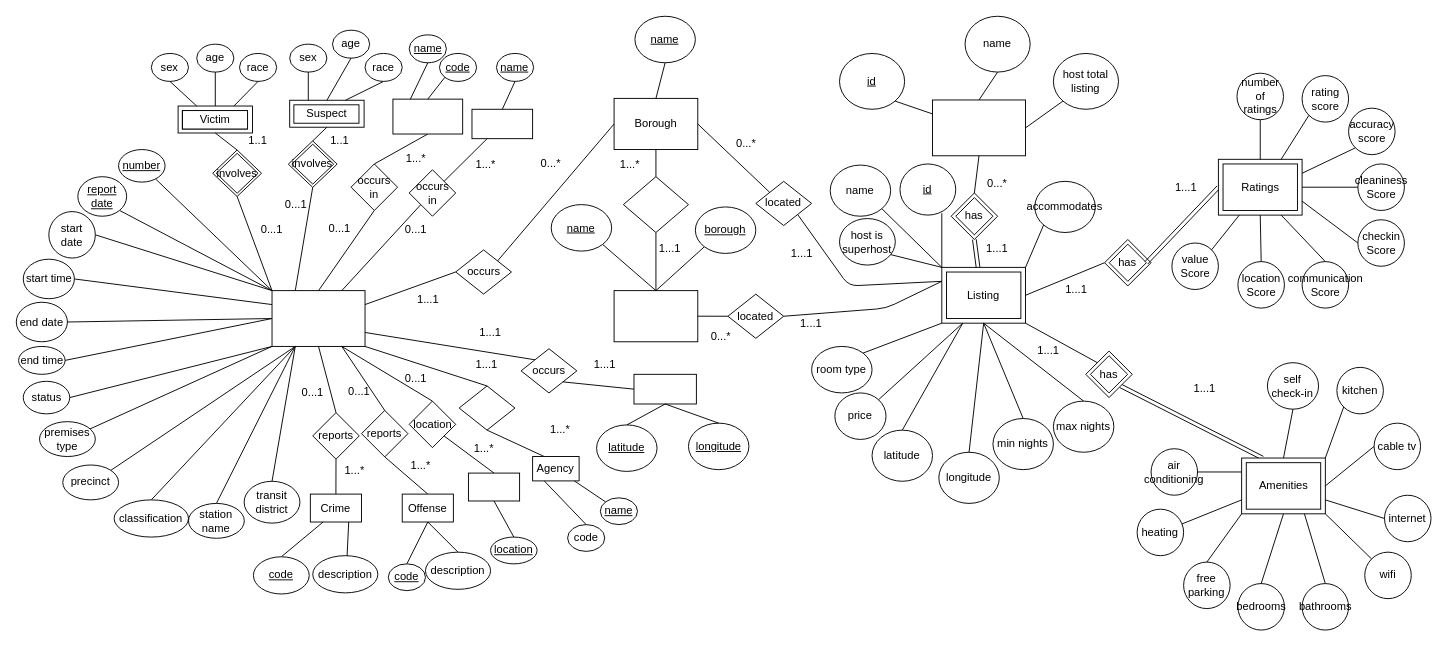
Some shapes in this 1448 by 646 pixel diagram are drawn without their labels. Here are the shapes that lost their labels. From the top down, the box of each, then its label:
(392, 98, 463, 134): Development
(471, 108, 533, 139): Park
(932, 99, 1026, 156): Host
(622, 176, 688, 232): area
(271, 290, 365, 346): Incident
(613, 290, 698, 342): Neighborhood
(458, 385, 515, 430): jurisdiction
(633, 373, 696, 404): Coordinate
(468, 472, 520, 501): premises
